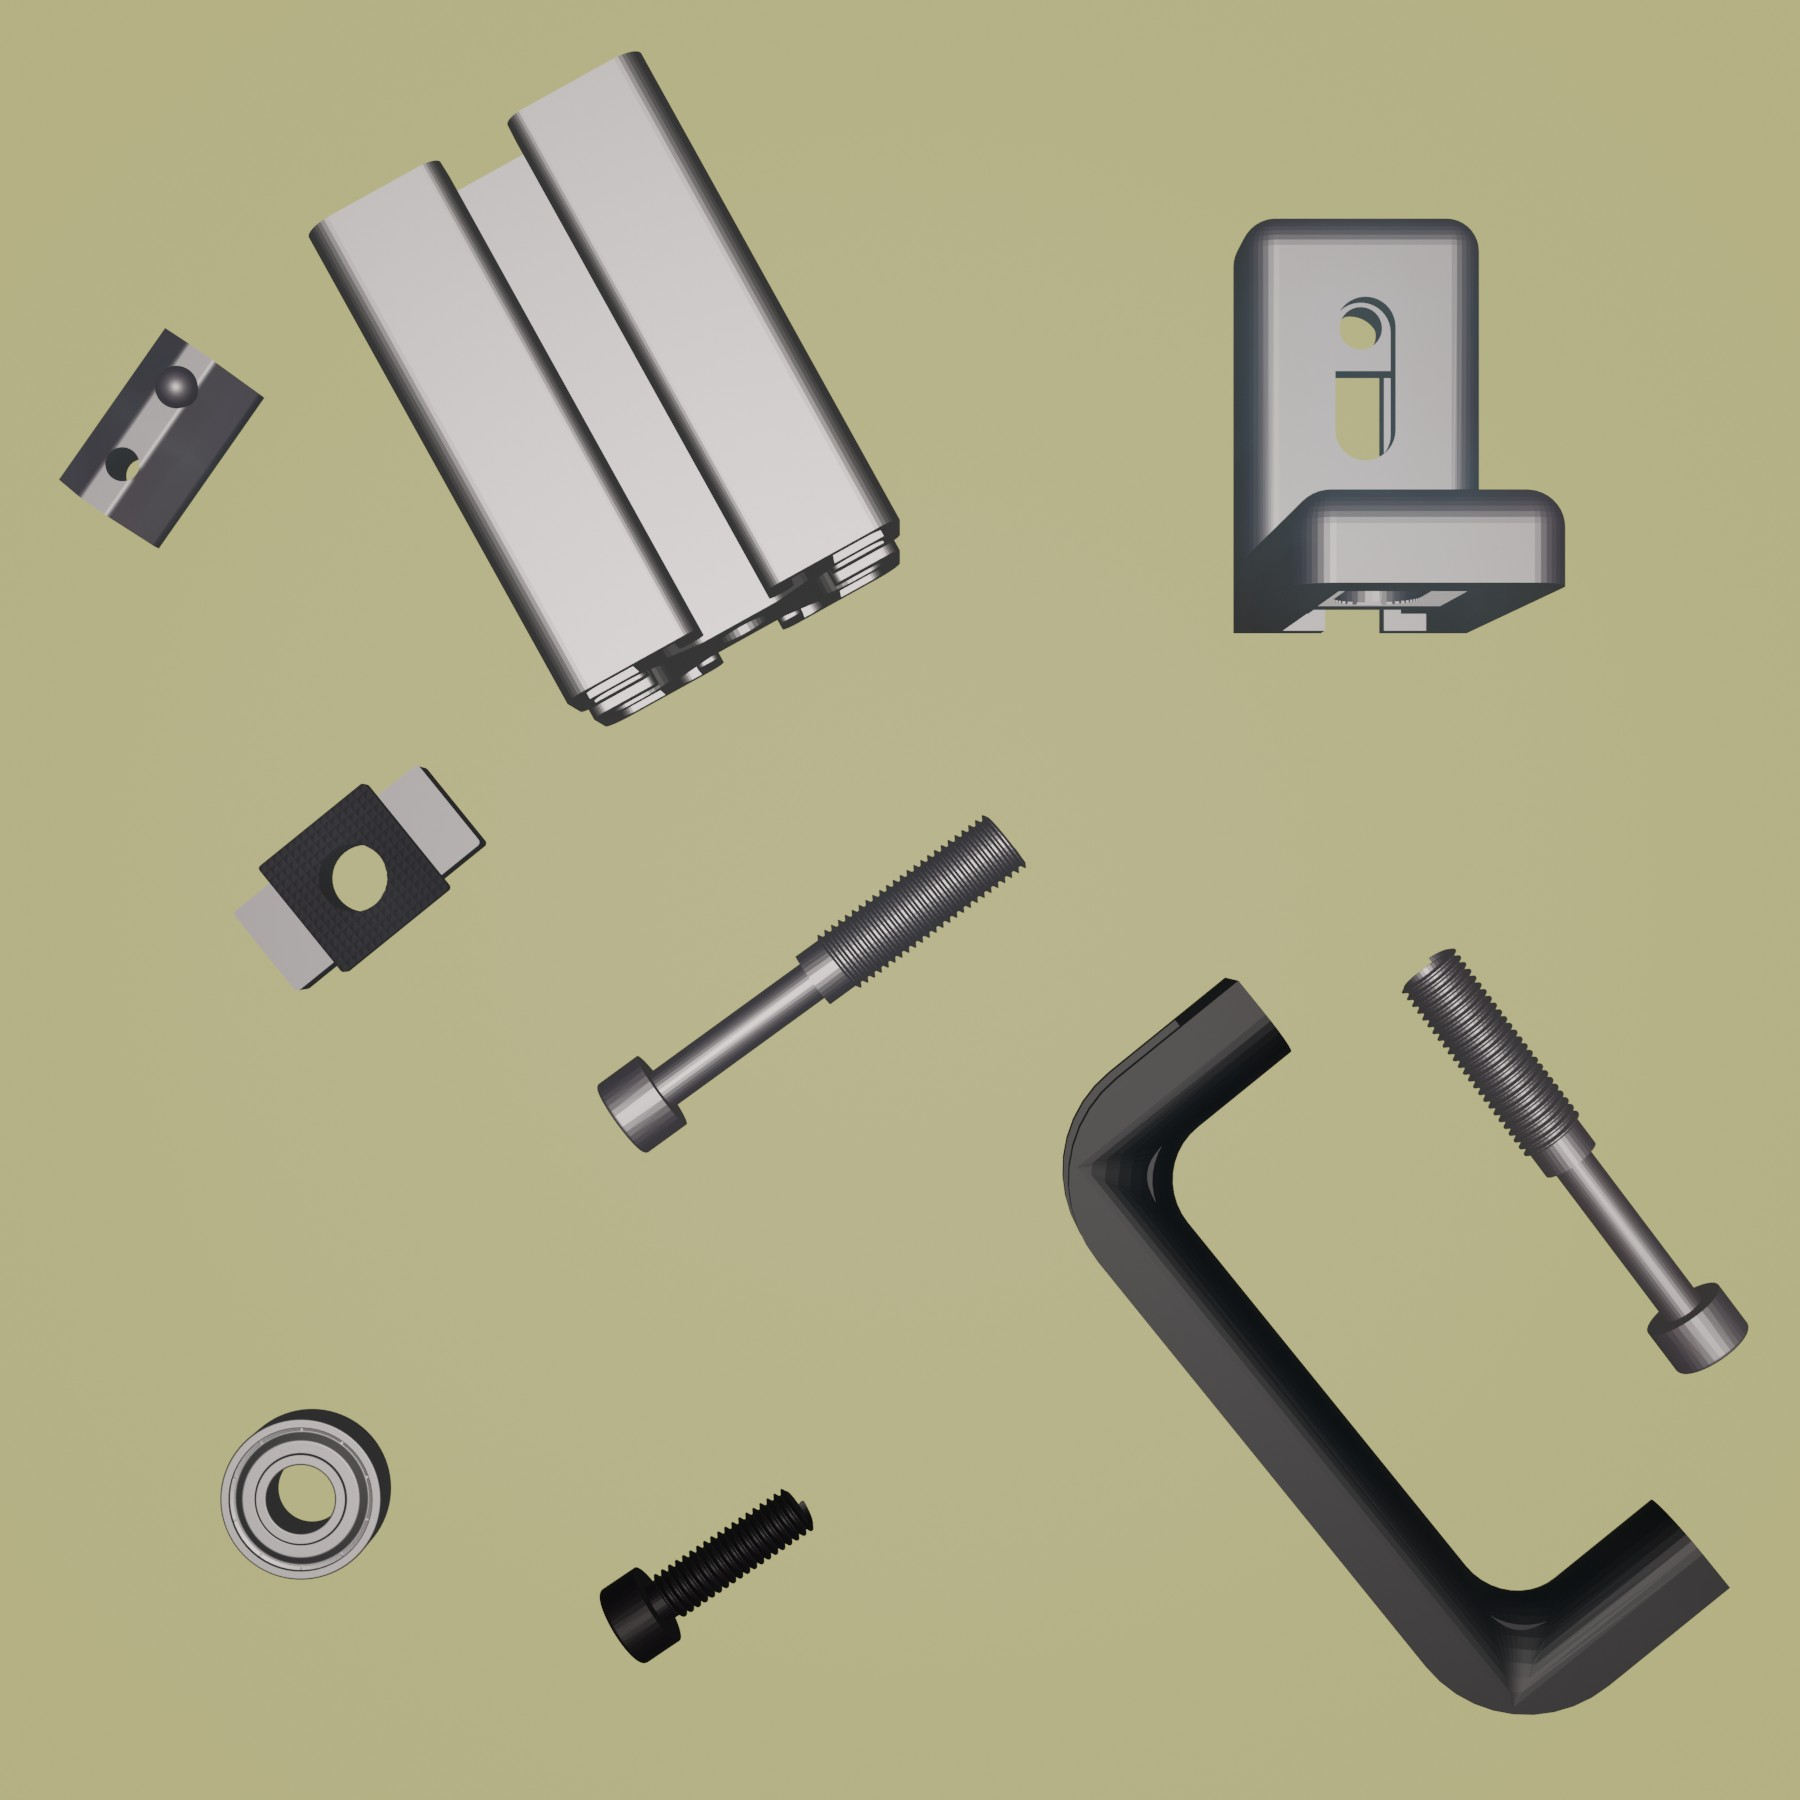Aluminium Extension: (305, 45, 903, 730)
Ball Bearing: (218, 1404, 392, 1586)
Multiwinkel: (1226, 211, 1569, 640)
Pull Handle: (1062, 973, 1731, 1716)
Shoulder Socket Head Cap Screw: (1399, 948, 1751, 1376), (598, 813, 1032, 1151)
Socket Head Cap Screw: (597, 1484, 814, 1666)
T Nut Square: (231, 762, 490, 996)
T Spring Nut: (56, 325, 270, 554)
